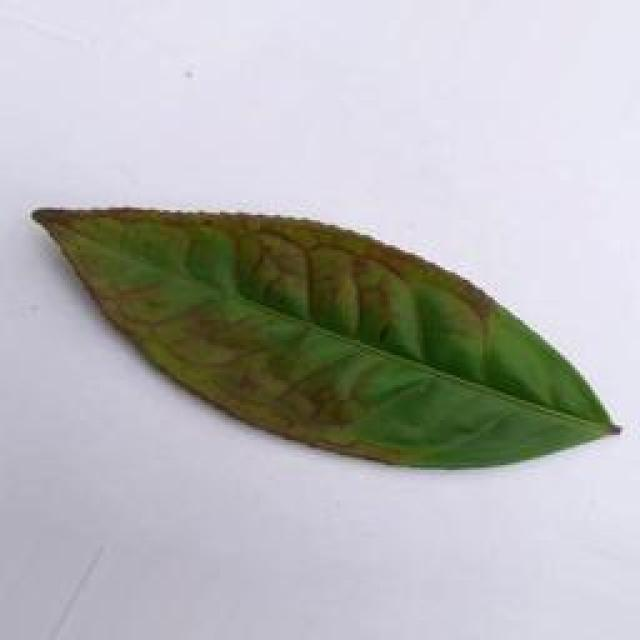Red Leaf Spot: (15, 182, 640, 482)
